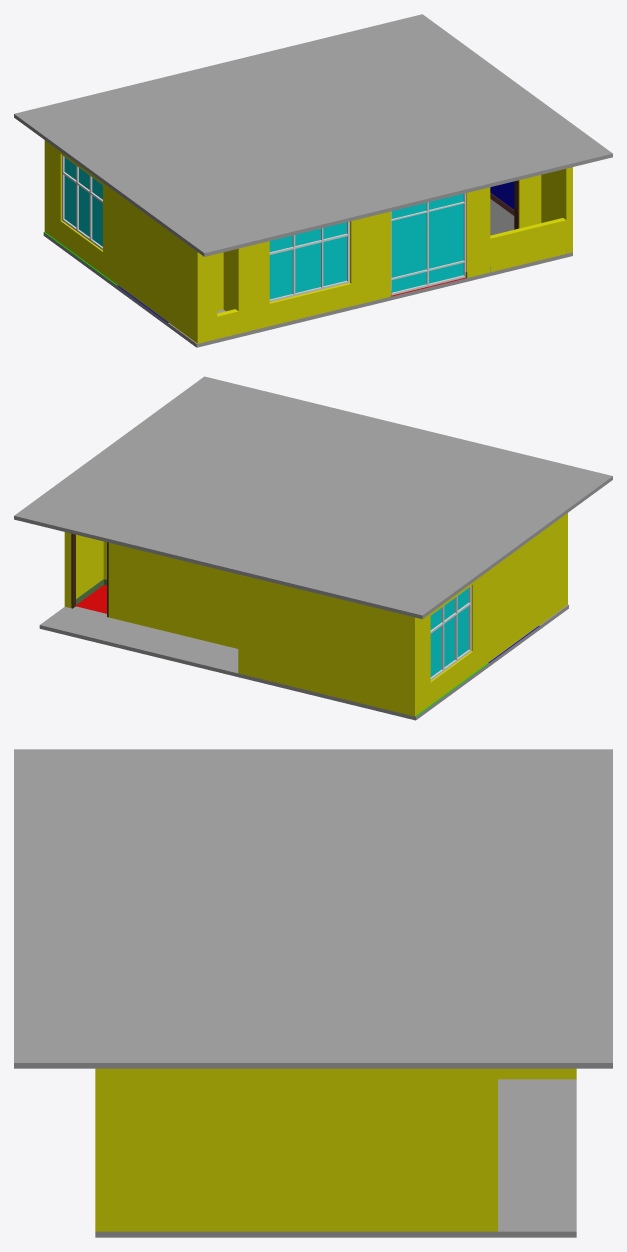
Rendered from Wing_A_Flat_No_04_Type02_MatID.fbx.
3 renders of one model, top to bottom at view 1: azimuth 30°, elevation 25°; view 2: azimuth 150°, elevation 25°; view 3: azimuth 270°, elevation 25°, orthographic. The views are drawn at different scales.
Parts seen in each view (by area): view 1: Roof, walls, balacony_door:Door_Glass1, Glass1, Floor, Flat_No_03_Type03:Glass1, balacony_door:Flat_No_03_Type03:Door_frame_03, Window_Frame, Flat_No_03_Type03:Window_Frame; view 2: Roof, walls, Floor, Flat_No_03_Type03:Glass1, Flat_No_03_Type03:Window_Frame, pCube12; view 3: Roof, walls, Floor.
Part boxes in pixels (x1,y1,x2,y2): Roof: (14,14,612,256); walls: (44,140,572,343); balacony_door:Door_Glass1: (391,194,463,292); Glass1: (269,222,346,299); Floor: (43,199,572,347); Flat_No_03_Type03:Glass1: (64,157,102,246); balacony_door:Flat_No_03_Type03:Door_frame_03: (391,193,466,295); Window_Frame: (269,221,349,301); Flat_No_03_Type03:Window_Frame: (62,155,102,249); Roof: (14,376,612,619); walls: (64,513,567,716); Floor: (39,585,568,720); Flat_No_03_Type03:Glass1: (430,588,468,676); Flat_No_03_Type03:Window_Frame: (430,585,471,680); pCube12: (71,533,108,617); Roof: (14,749,612,1068); walls: (95,1068,576,1231); Floor: (95,1079,576,1237).
Bounding box in the file's own units: 1146 × 316 × 925.
